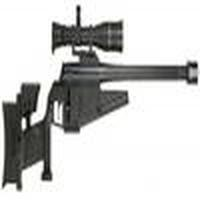gun: (2, 58, 199, 185)
